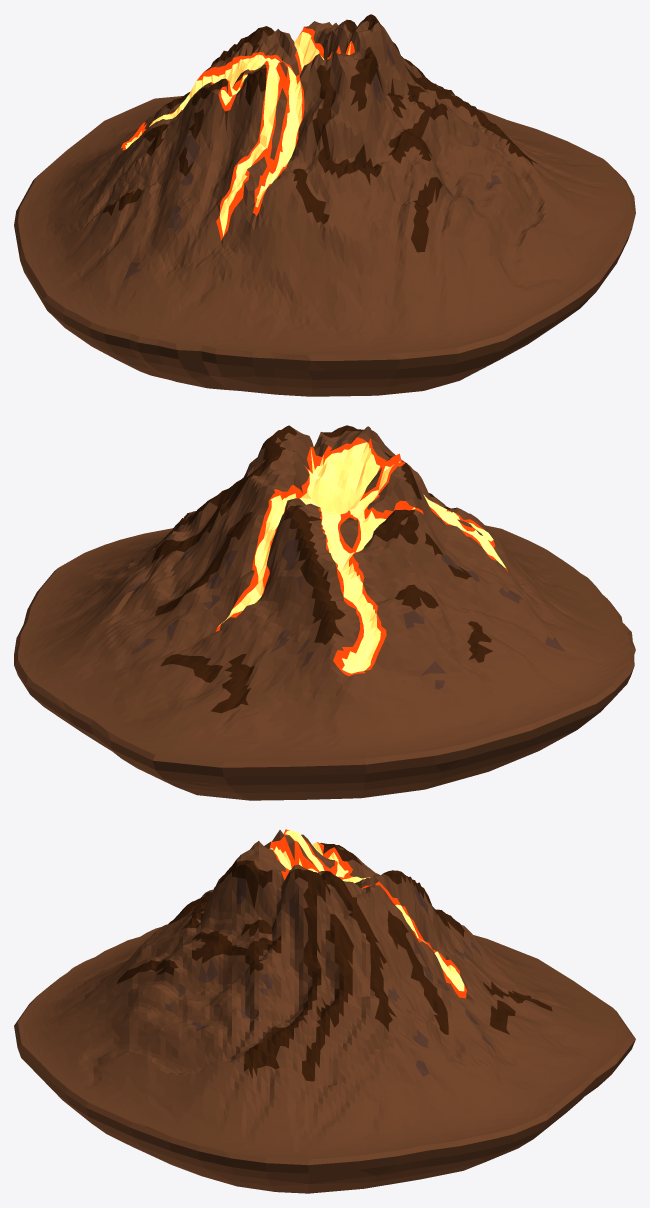
The model's file is volcano.glb.
The picture shows the model from 3 angles, top to bottom: view 1: azimuth 30°, elevation 25°; view 2: azimuth 150°, elevation 25°; view 3: azimuth 270°, elevation 25°; orthographic projection. The views are drawn at different scales.
Visible parts, largest first — view 1: Landscape_0, Landscape.001_1; view 2: Landscape_0, Landscape.001_1; view 3: Landscape_0, Landscape.001_1.
Boxes of the visible parts, x1,y1,x2,y2 form: Landscape_0: (18,14,631,355); Landscape.001_1: (14,160,635,396); Landscape_0: (18,425,631,761); Landscape.001_1: (14,568,635,800); Landscape_0: (18,829,631,1159); Landscape.001_1: (14,997,635,1193).
Size of the model in its own units: 2.13 by 1.21 by 2.2.
